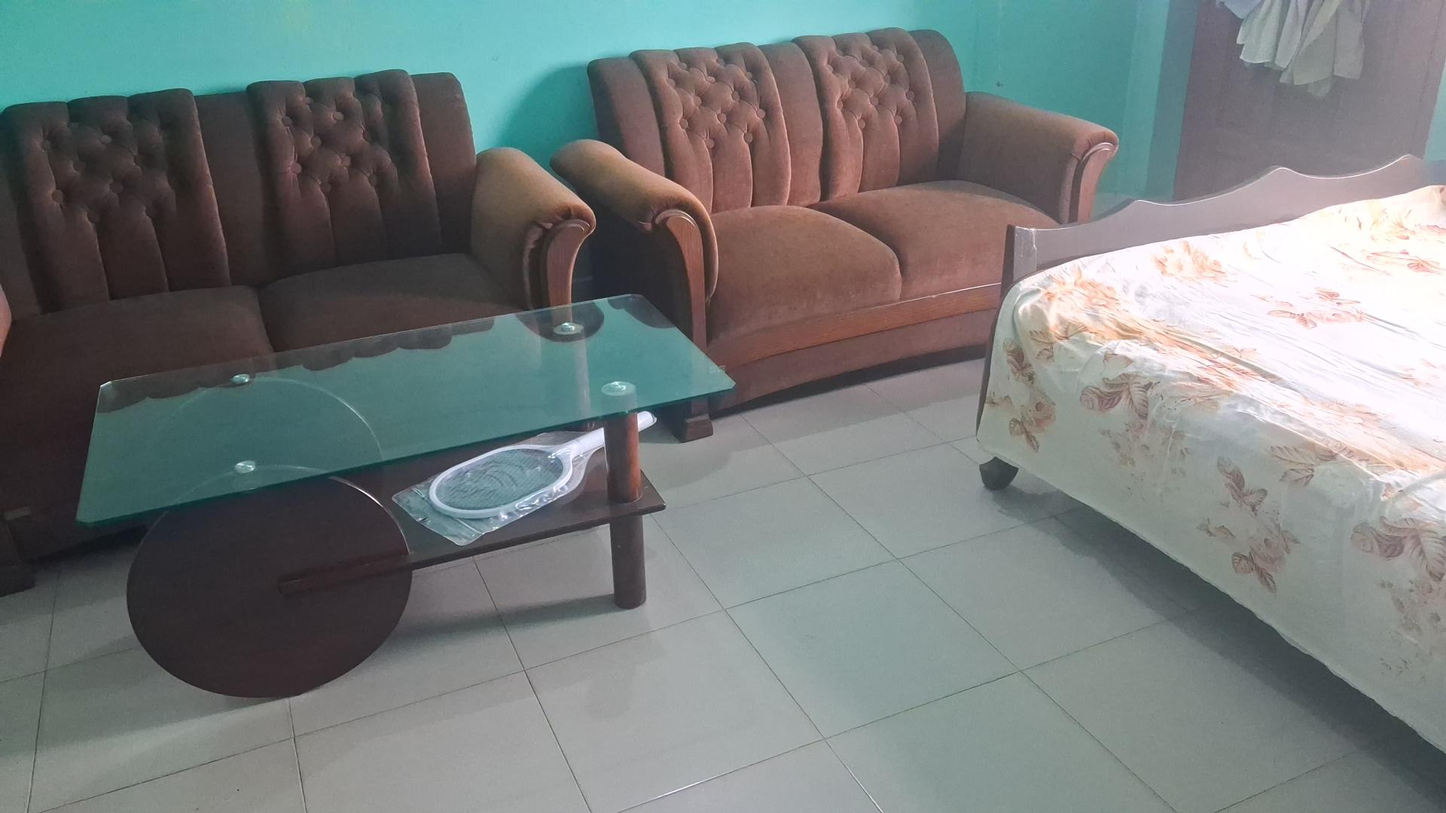Table: (72, 290, 739, 701)
